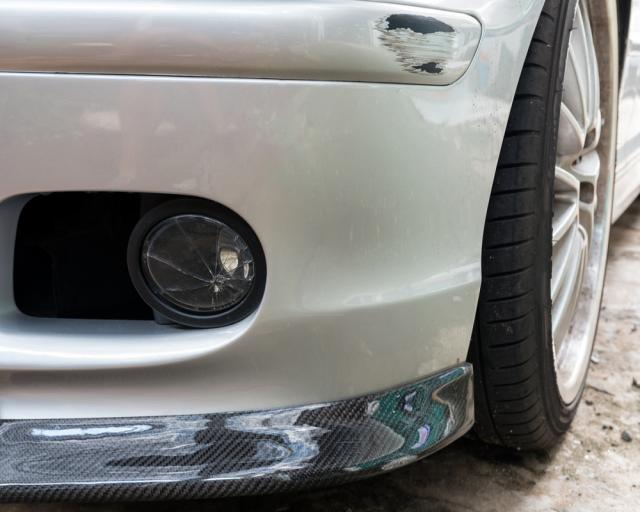lamp broken: (143, 215, 254, 314)
scratch: (370, 8, 458, 79)
